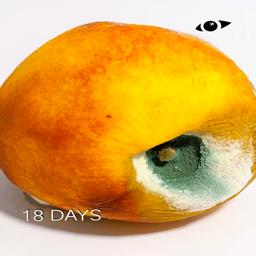Peach Rotten: (2, 17, 256, 223)
